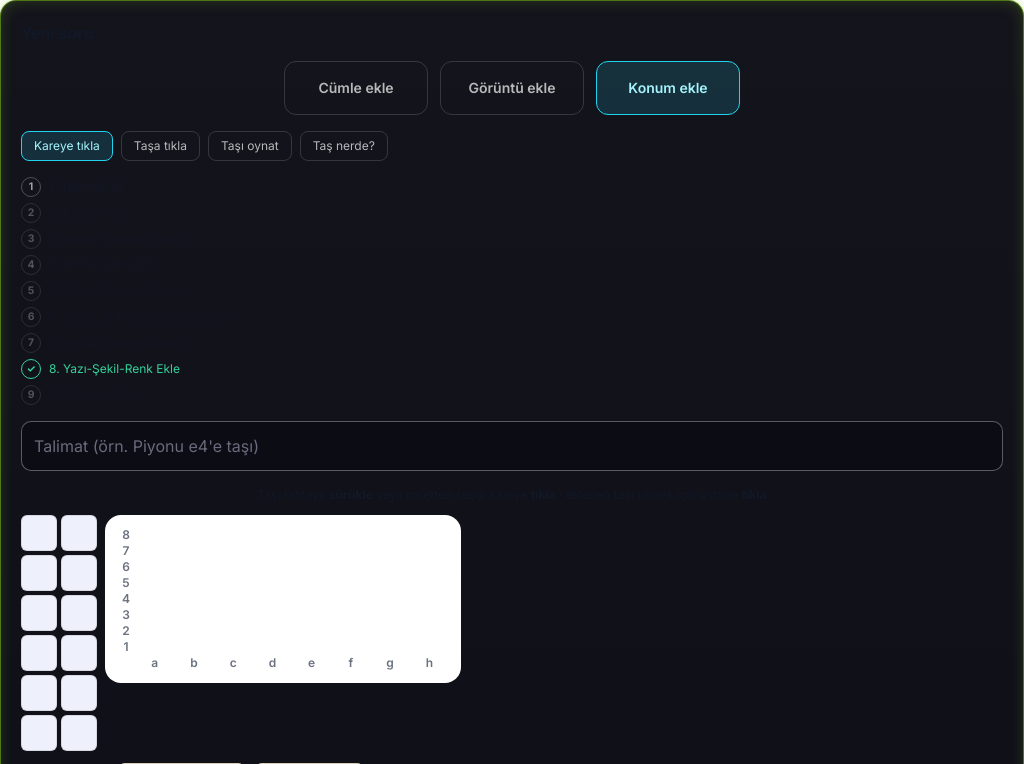
Scenario: ExerciseForm — Kareye Tıkla 9 adım (madde 2 + C grubu) › Hamle Sırası: "Siyah" düğmesine tıklanınca adım 3 tik alır
Click the button "Konum ekle": (668,88) [596,61,740,115]
(page scrolled)
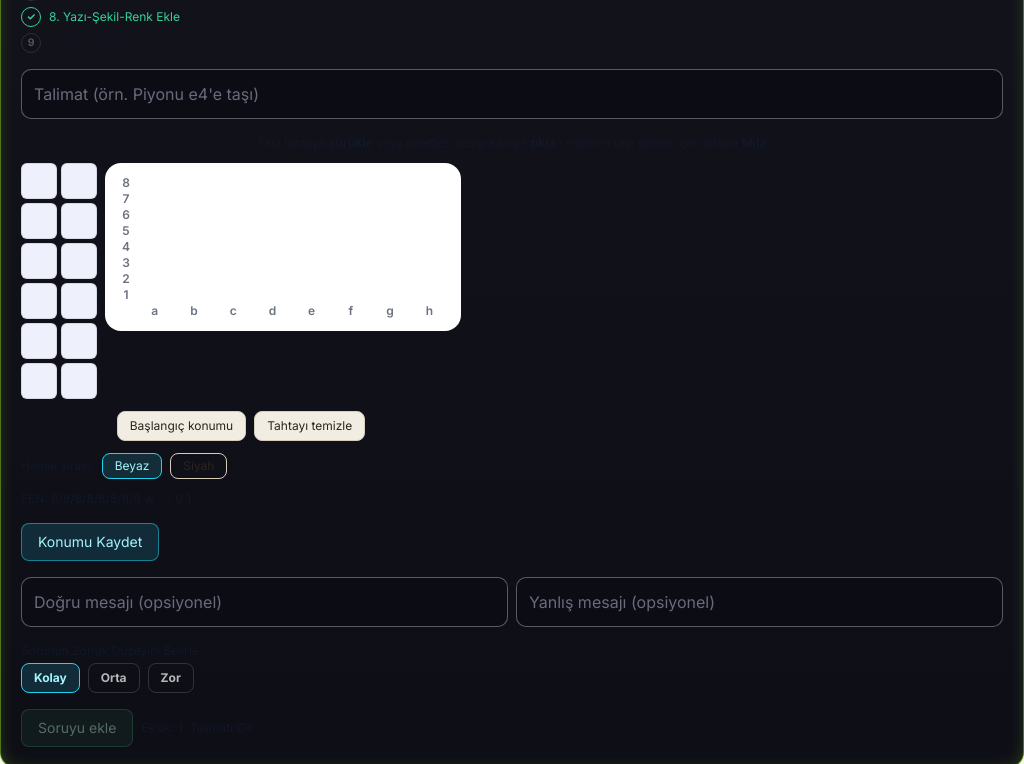
Click the button "Siyah": (199,466) [170,453,227,479]
(page scrolled)
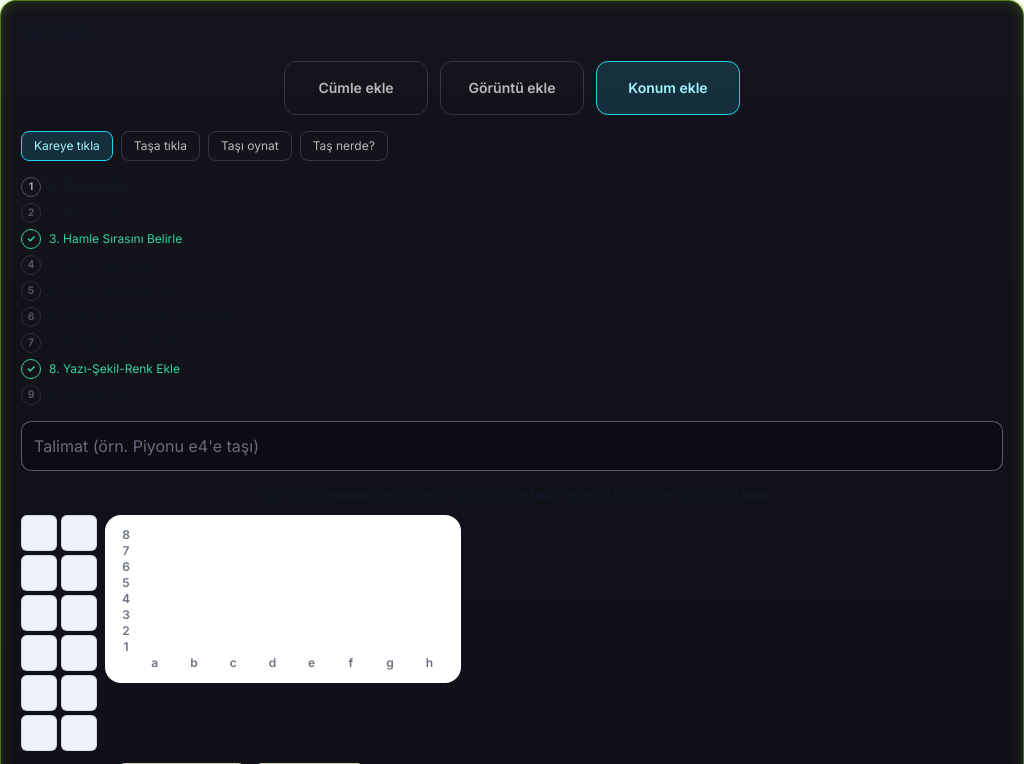
Now the list item "✓ 3. Hamle Sırasını Belirle" is shown, box [21,229,182,249]
